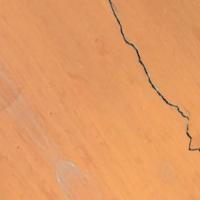crack: (104, 1, 199, 161)
